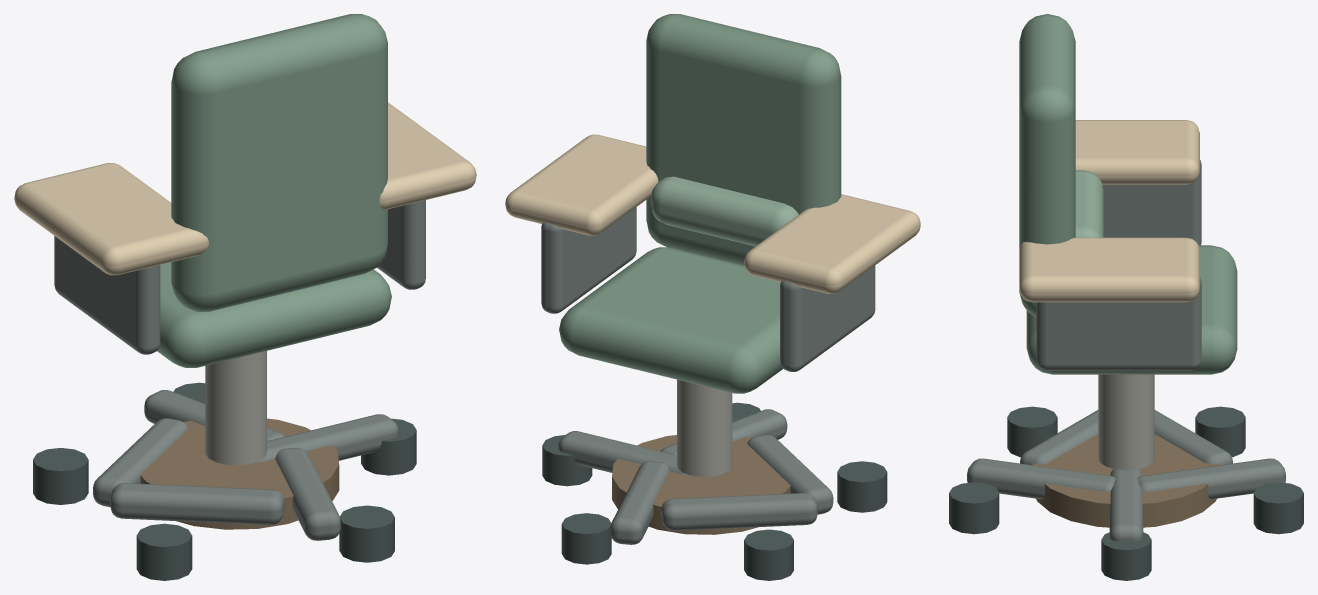
Rendered from chair-ergonomic.glb.
The picture shows the model from 3 angles, left to right: view 1: azimuth 30°, elevation 25°; view 2: azimuth 150°, elevation 25°; view 3: azimuth 270°, elevation 25°; orthographic projection. The views are drawn at different scales.
Parts seen in each view (by area): view 1: chair-ergonomic; view 2: chair-ergonomic; view 3: chair-ergonomic.
Boxes of the visible parts, x1,y1,x2,y2 form: chair-ergonomic: [14, 14, 476, 580]; chair-ergonomic: [505, 14, 920, 580]; chair-ergonomic: [949, 14, 1303, 580].
Bounding box in the file's own units: 1.04 × 1.33 × 0.9433.
